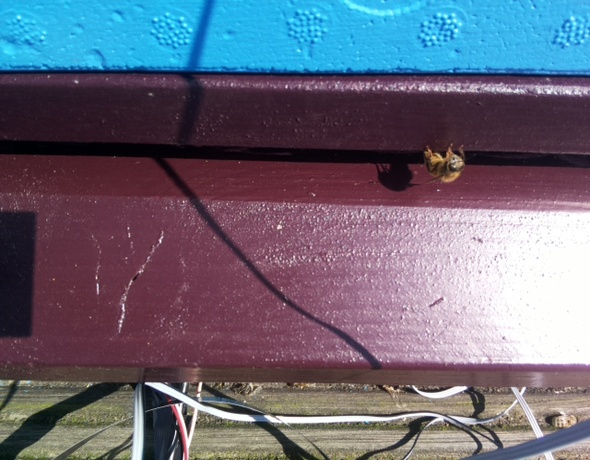no_pollen: (424, 147, 466, 185)
